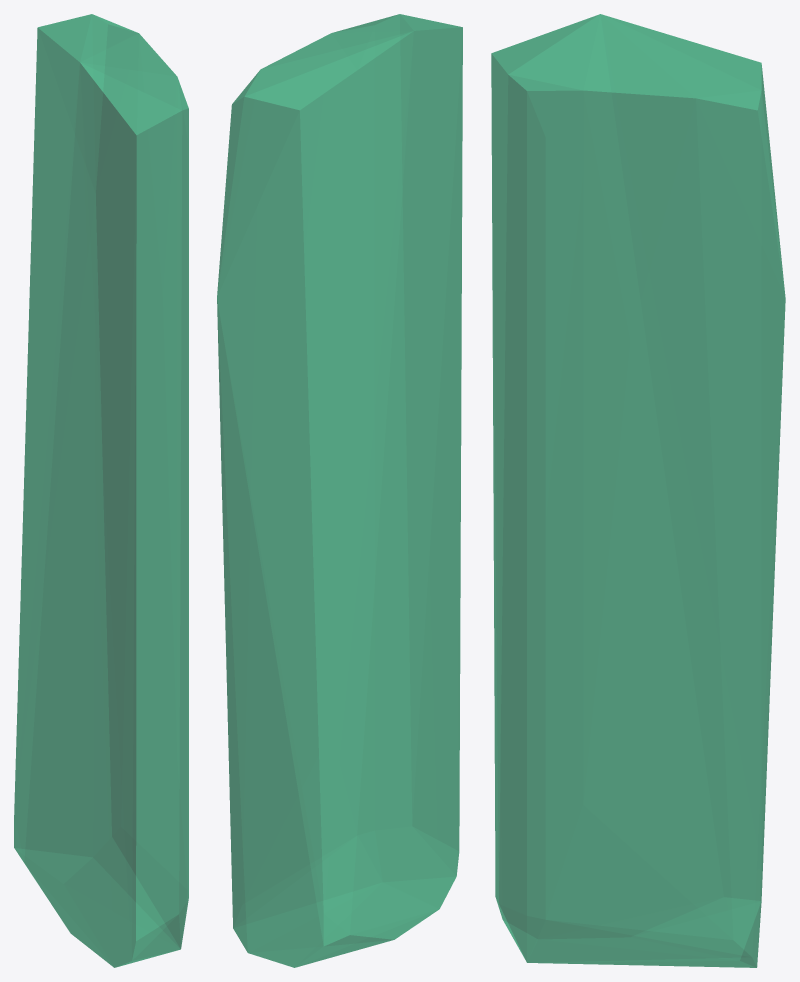
3 renders of one model, left to right at view 1: azimuth 30°, elevation 25°; view 2: azimuth 150°, elevation 25°; view 3: azimuth 270°, elevation 25°, orthographic. The views are drawn at different scales.
Parts seen in each view (by area): view 1: Shape_IndexedFaceSet.056_Shape_IndexedFaceSet.18279; view 2: Shape_IndexedFaceSet.056_Shape_IndexedFaceSet.18279; view 3: Shape_IndexedFaceSet.056_Shape_IndexedFaceSet.18279.
Part boxes in pixels (bbox=[...]): Shape_IndexedFaceSet.056_Shape_IndexedFaceSet.18279: bbox=[14, 14, 188, 967]; Shape_IndexedFaceSet.056_Shape_IndexedFaceSet.18279: bbox=[217, 14, 462, 967]; Shape_IndexedFaceSet.056_Shape_IndexedFaceSet.18279: bbox=[491, 14, 785, 967].
Bounding box in the file's own units: 0.0725 × 0.585 × 0.169.
